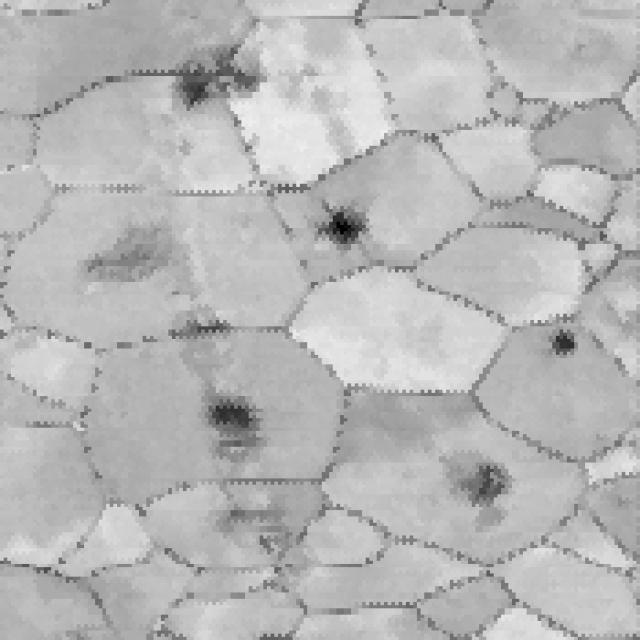good_void: (79, 214, 198, 301), (166, 47, 271, 118), (209, 490, 303, 568), (198, 394, 270, 459), (315, 199, 370, 252), (465, 455, 515, 502), (164, 317, 237, 346), (549, 321, 580, 365), (554, 35, 591, 64)
